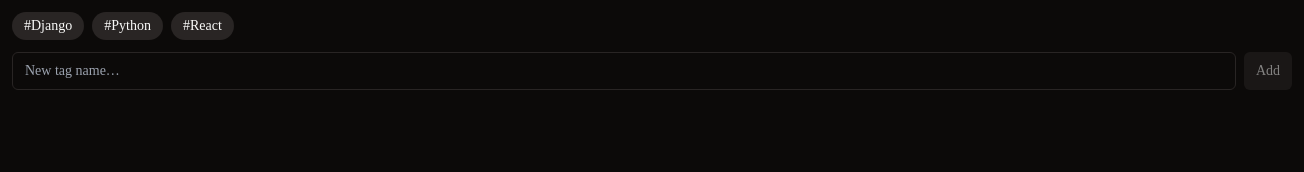
Scenario: FE-021: TagSelector › Add button is enabled when input has text
In the field with placeholder "New tag name…": (624, 71) [12,52,1236,90], type "Nextjs"
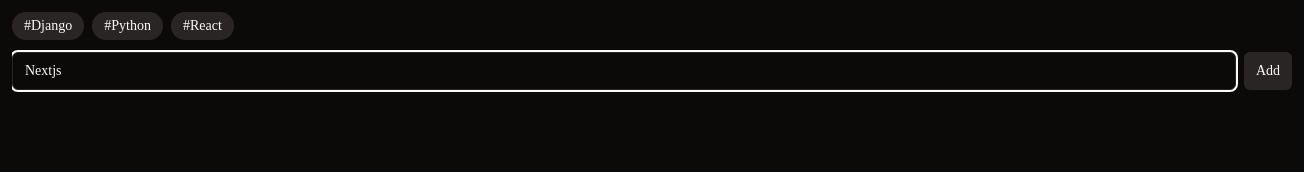
Now the button "Add" is enabled, box [1244,52,1292,90]
